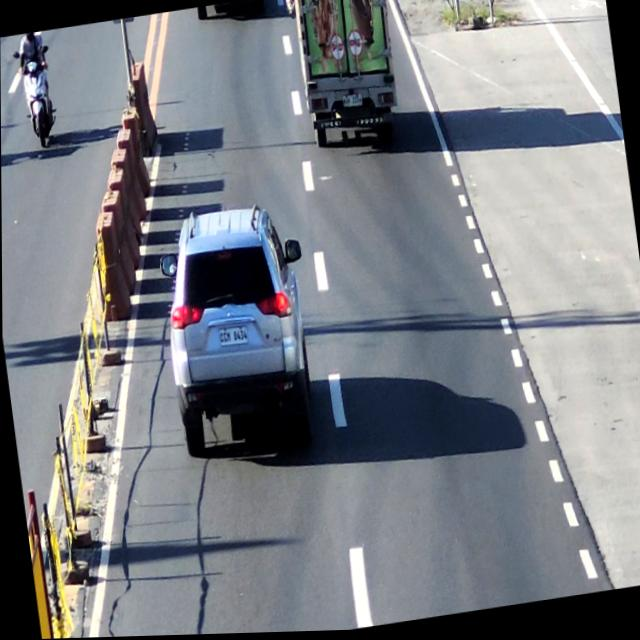Car: (155, 197, 328, 474)
License-Plate: (215, 322, 252, 356), (340, 91, 366, 115)
Truck: (285, 0, 404, 151)
